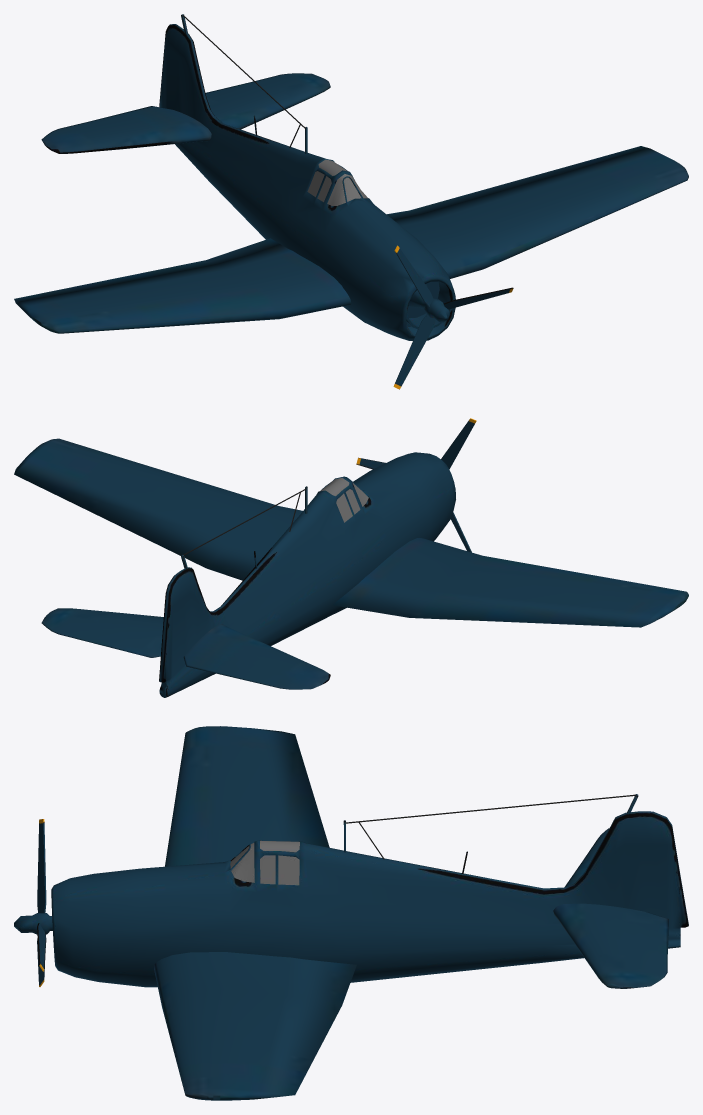
File: realistic-by.76880fe3d732.fighter.glb
3 views of the same model, one above another, from view 1: azimuth 30°, elevation 25°; view 2: azimuth 150°, elevation 25°; view 3: azimuth 270°, elevation 25° (orthographic). The views are drawn at different scales.
Bounding box in the file's own units: 13.22 × 3.56 × 10.2.
Materials: 1 (1 with a texture image).
